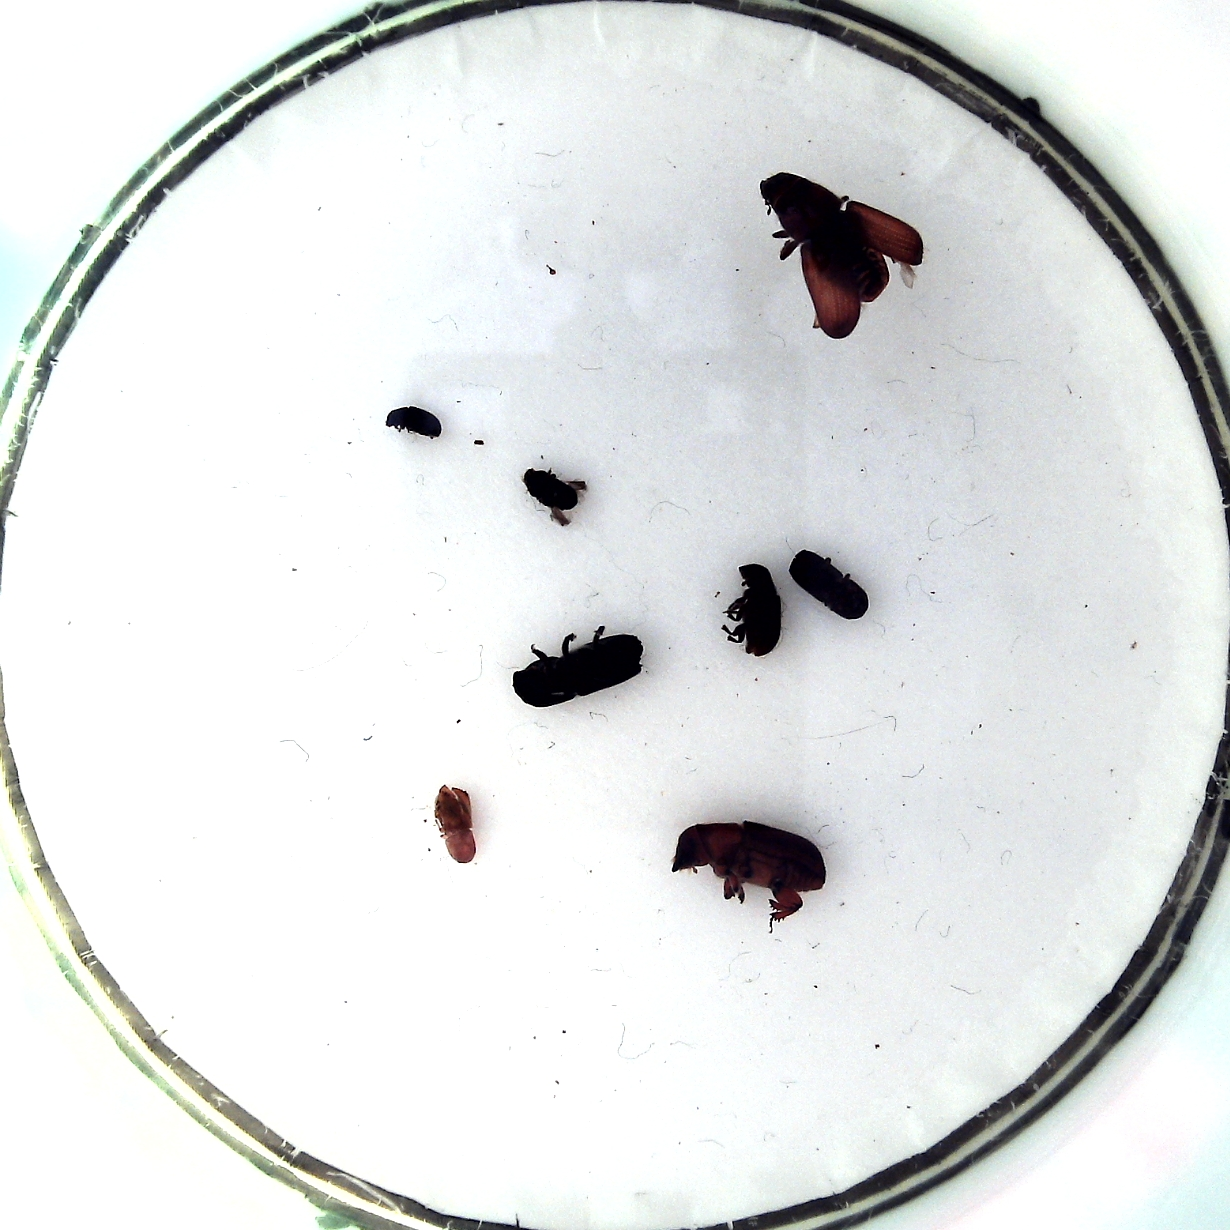Boerner: (512, 633, 644, 707)
Leconte: (763, 170, 890, 304), (670, 820, 827, 899)
acuminatus: (522, 467, 580, 511)
armandi: (737, 562, 782, 657)
coleoptera: (435, 784, 475, 863), (386, 405, 443, 438)
linnaeus: (787, 551, 870, 621)
